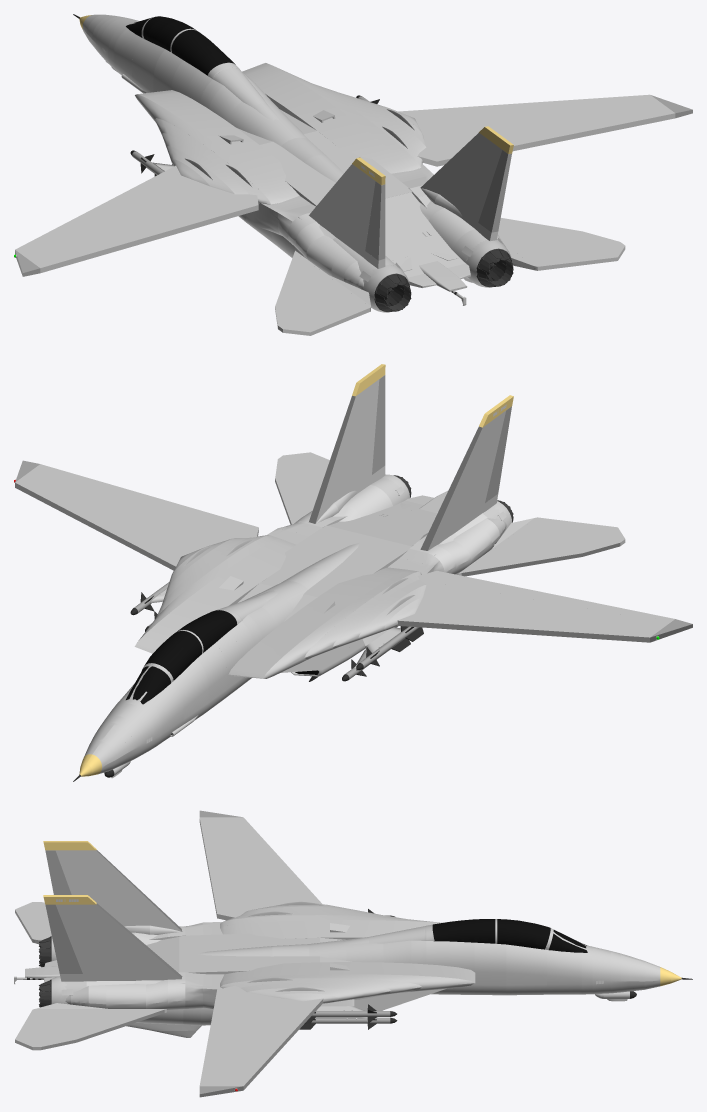
The picture shows the model from 3 angles, top to bottom: view 1: azimuth 30°, elevation 25°; view 2: azimuth 150°, elevation 25°; view 3: azimuth 270°, elevation 25°; orthographic projection. The views are drawn at different scales.
Parts seen in each view (by area): view 1: A_f14; view 2: A_f14; view 3: A_f14.
Part boxes in pixels (x1=…): A_f14: x1=14, y1=14, x2=692, y2=335; A_f14: x1=14, y1=364, x2=692, y2=781; A_f14: x1=14, y1=810, x2=692, y2=1097.
Size of the model in its own units: 52.89 by 12.89 by 53.48.
Materials: 4 (4 with a texture image).
